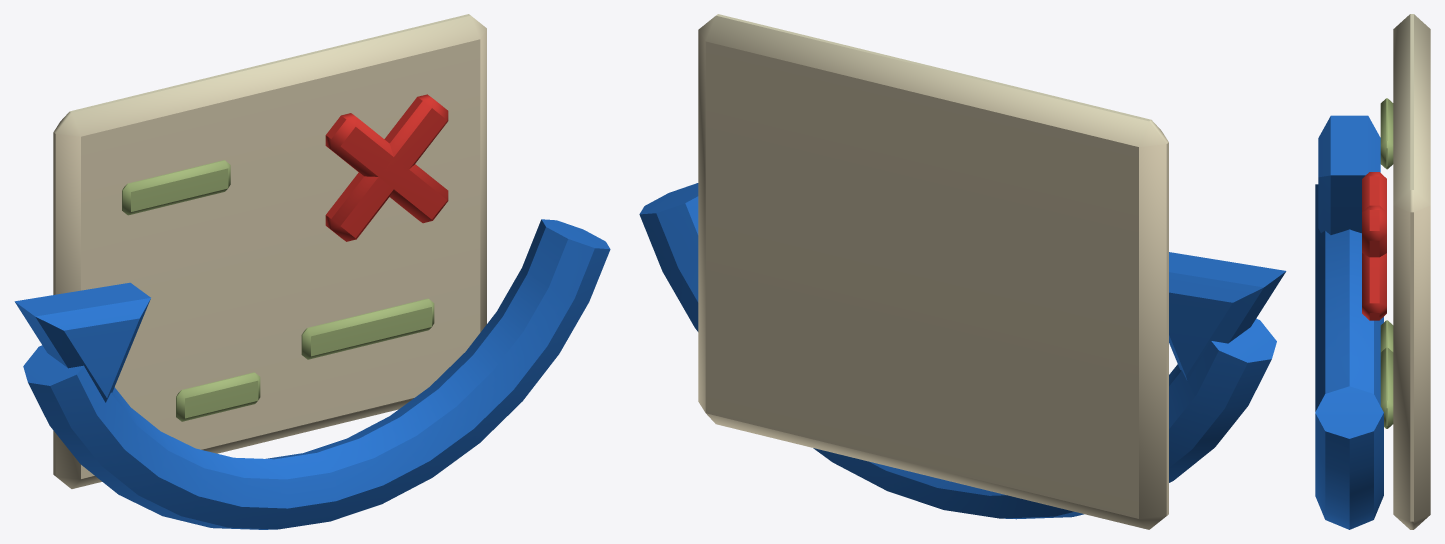
Rendered from ui_replay.glb.
The picture shows the model from 3 angles, left to right: view 1: azimuth 30°, elevation 25°; view 2: azimuth 150°, elevation 25°; view 3: azimuth 270°, elevation 25°; orthographic projection. The views are drawn at different scales.
Visible parts, largest first — view 1: body; view 2: body; view 3: body.
Part boxes in pixels (x1=…): body: x1=14, y1=14, x2=610, y2=529; body: x1=639, y1=14, x2=1286, y2=529; body: x1=1315, y1=14, x2=1430, y2=529.
Size of the model in its own units: 0.4847 by 0.3475 by 0.0925.
